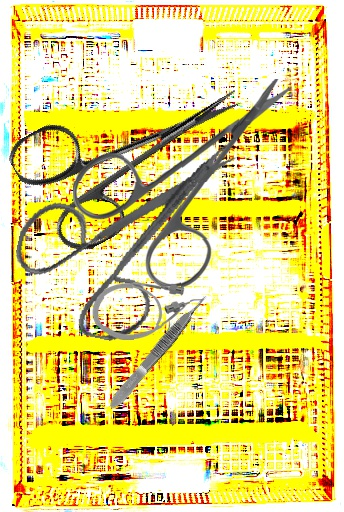Cannula: (91, 280, 204, 341)
Iris Scissors: (2, 37, 269, 263), (2, 105, 239, 359), (71, 75, 292, 289)
Tissue Forceps: (104, 290, 214, 413)
